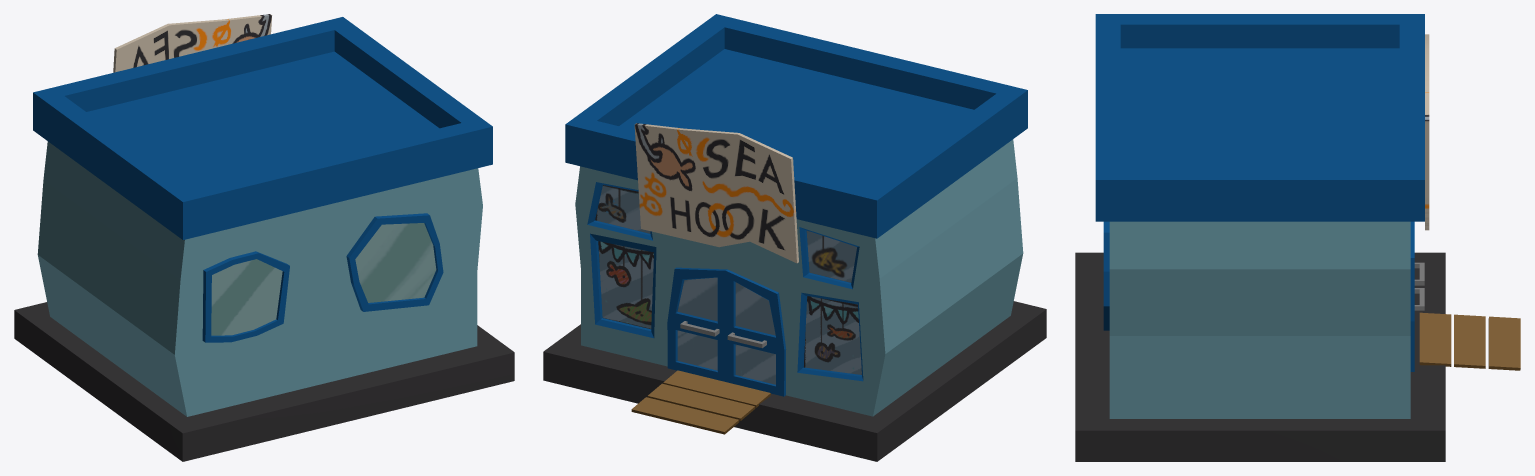
Rendered from SM_SeaHook.fbx.
3 views of the same model, side by side, from view 1: azimuth 30°, elevation 25°; view 2: azimuth 150°, elevation 25°; view 3: azimuth 270°, elevation 25° (orthographic). The views are drawn at different scales.
Visible parts, largest first — view 1: fishHook, Cube.057; view 2: fishHook, Cube.057, fishHook.009, fishHook.003, maderasSuelo.004; view 3: fishHook, Cube.057, maderasSuelo.004, fishHook.003.
Boxes of the visible parts, bbox=[...] form: fishHook: bbox=[33, 14, 492, 416]; Cube.057: bbox=[14, 302, 514, 461]; fishHook: bbox=[565, 14, 1027, 416]; Cube.057: bbox=[543, 301, 1046, 461]; fishHook.009: bbox=[726, 269, 786, 396]; fishHook.003: bbox=[667, 267, 727, 381]; maderasSuelo.004: bbox=[631, 370, 770, 434]; fishHook: bbox=[1095, 14, 1429, 418]; Cube.057: bbox=[1075, 252, 1445, 461]; maderasSuelo.004: bbox=[1419, 312, 1520, 370]; fishHook.003: bbox=[1410, 221, 1424, 371].
Bounding box in the file's own units: 614 × 503 × 650.
